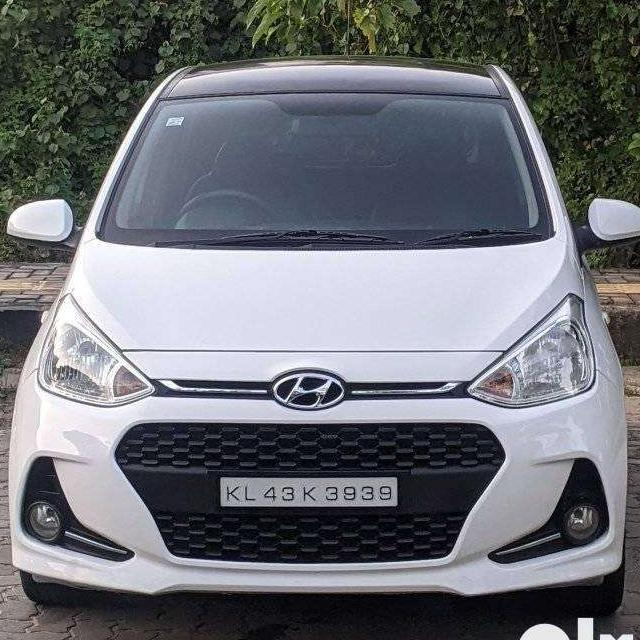Indian_Number_Plate: (214, 474, 405, 509)
